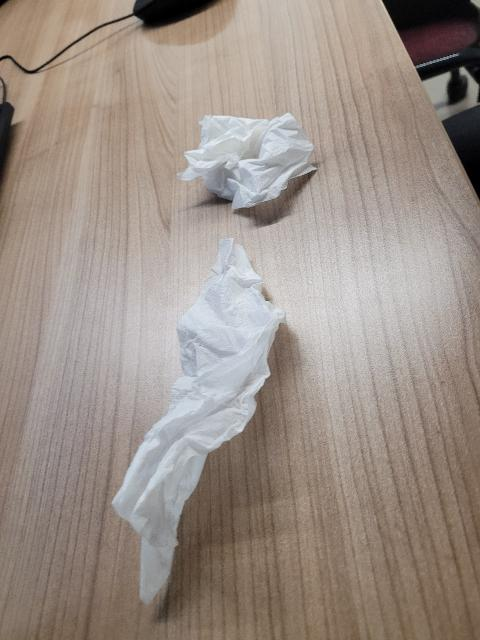Kagit: (108, 239, 287, 605), (178, 109, 317, 207)
